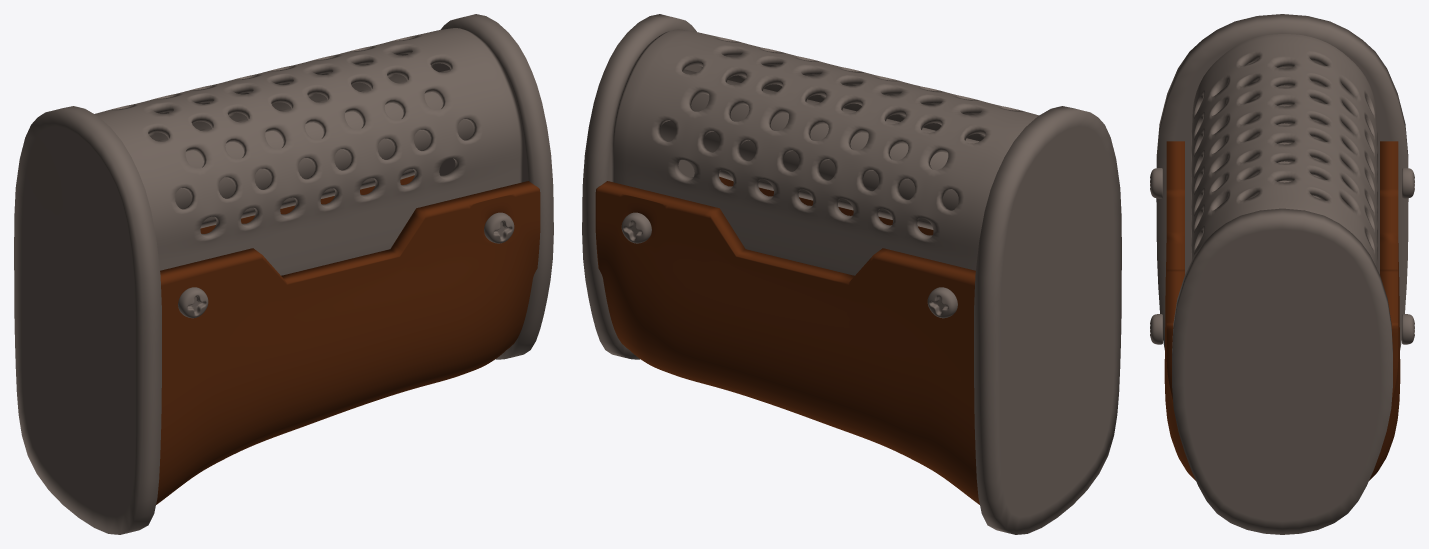
The model's file is handguard_06.fbx.
3 views of the same model, side by side, from view 1: azimuth 30°, elevation 25°; view 2: azimuth 150°, elevation 25°; view 3: azimuth 270°, elevation 25° (orthographic). The views are drawn at different scales.
Visible parts, largest first — view 1: Cube.043, Plane.070, Cube.099, Cube.004, Circle.010, Circle.011; view 2: Cube.043, Plane.070, Cube.099, Cube.004, Circle.010, Circle.011; view 3: Cube.004, Plane.070, Cube.099, Cube.043, Circle.011, Circle.010.
Boxes of the visible parts, <box> form: Cube.043: <box>156,175,540,504</box>; Plane.070: <box>94,28,522,275</box>; Cube.099: <box>14,106,161,534</box>; Cube.004: <box>433,14,553,359</box>; Circle.010: <box>157,69,473,208</box>; Circle.011: <box>178,212,514,318</box>; Cube.043: <box>595,176,979,504</box>; Plane.070: <box>611,29,1038,275</box>; Cube.099: <box>974,106,1121,534</box>; Cube.004: <box>582,14,700,359</box>; Circle.010: <box>660,69,979,210</box>; Circle.011: <box>621,212,957,318</box>; Cube.004: <box>1172,208,1392,534</box>; Plane.070: <box>1191,34,1377,268</box>; Cube.099: <box>1156,14,1408,349</box>; Cube.043: <box>1164,141,1400,480</box>; Circle.011: <box>1150,168,1414,344</box>; Circle.010: <box>1246,66,1322,199</box>.
Bounding box in the file's own units: 32.06 × 29.03 × 17.96.
